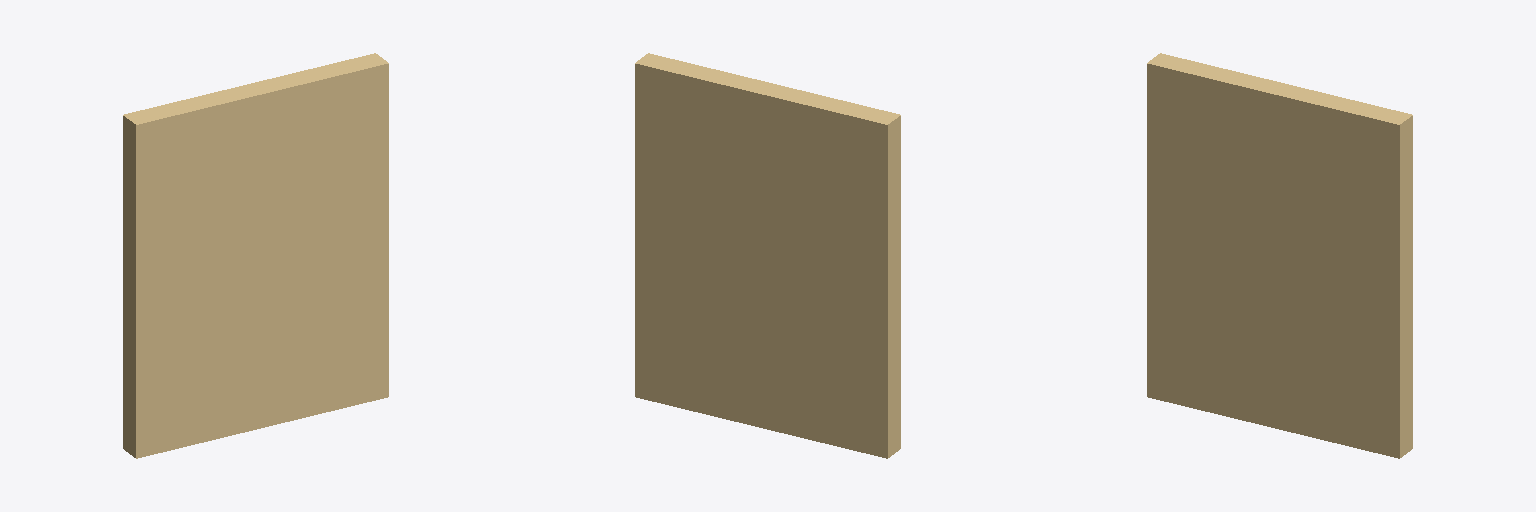
Rendered from original-2.obj.
The picture shows the model from 3 angles: view 1: azimuth 30°, elevation 25°; view 2: azimuth 150°, elevation 25°; view 3: azimuth 330°, elevation 25°; orthographic projection.
Visible parts, largest first — view 1: #ID13; view 2: #ID13; view 3: #ID13.
Part boxes in pixels (x1,y1,x2,y2): #ID13: (123,53,388,458); #ID13: (635,53,900,458); #ID13: (1147,53,1412,458).
Bounding box in the file's own units: 1.26 × 1.59 × 0.1198.